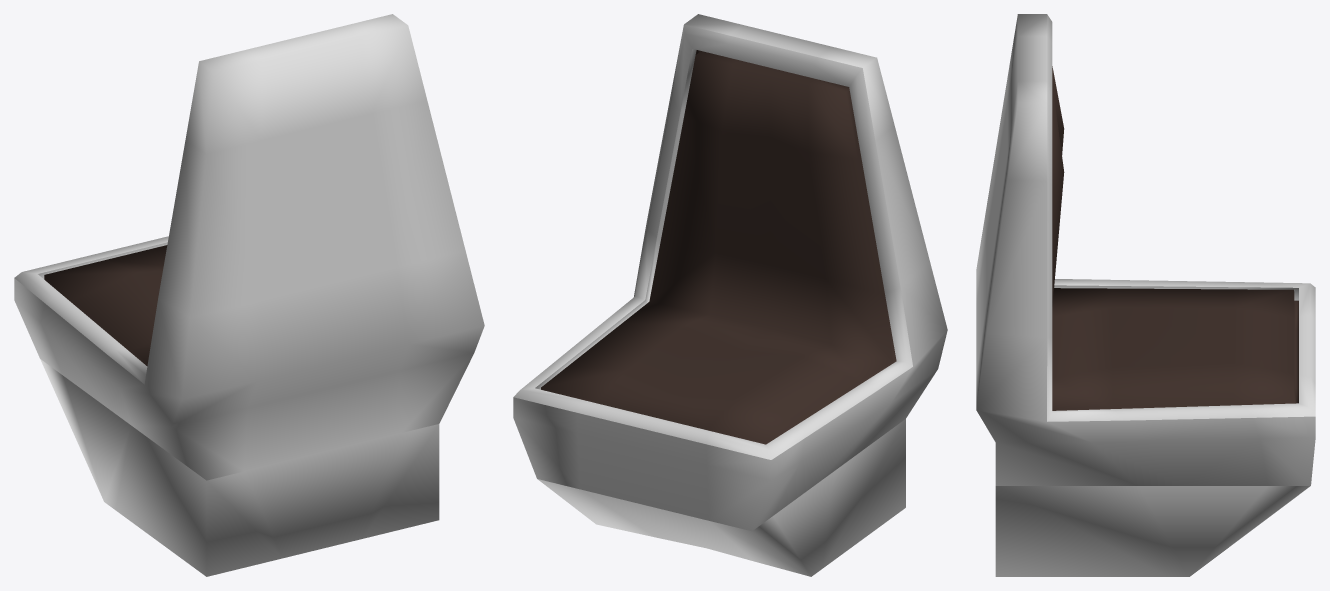
File: chair.glb
3 renders of one model, left to right at view 1: azimuth 30°, elevation 25°; view 2: azimuth 150°, elevation 25°; view 3: azimuth 270°, elevation 25°, orthographic. The views are drawn at different scales.
Visible parts, largest first — view 1: prop_chair; view 2: prop_chair; view 3: prop_chair.
Boxes of the visible parts, <box> form: prop_chair: <box>14,14,484,576</box>; prop_chair: <box>513,14,947,576</box>; prop_chair: <box>976,14,1315,576</box>.
Size of the model in its own units: 0.675 by 1.05 by 0.693.
